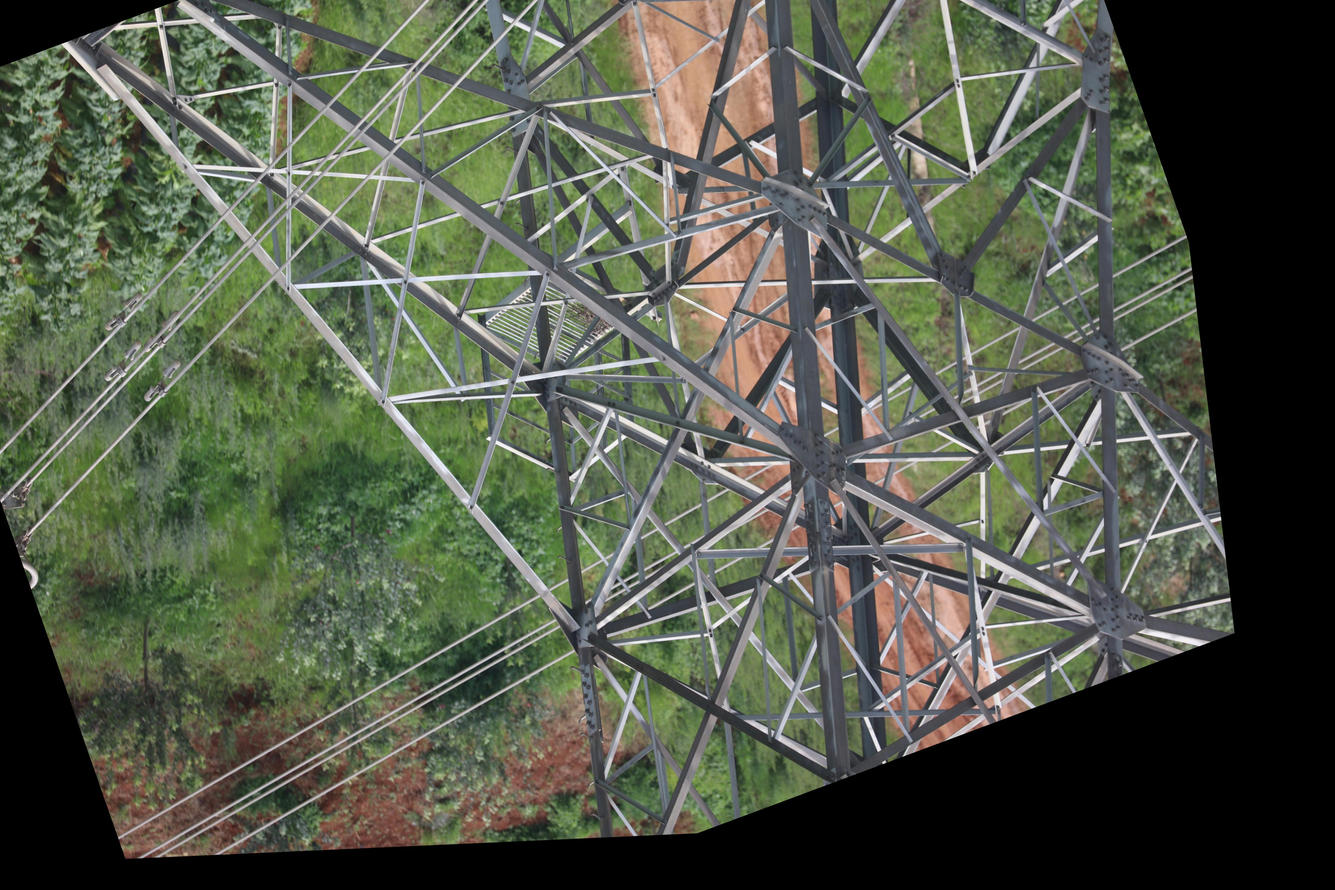damper: (128, 344, 197, 417), (128, 295, 196, 368), (89, 325, 156, 396), (90, 276, 157, 345)
